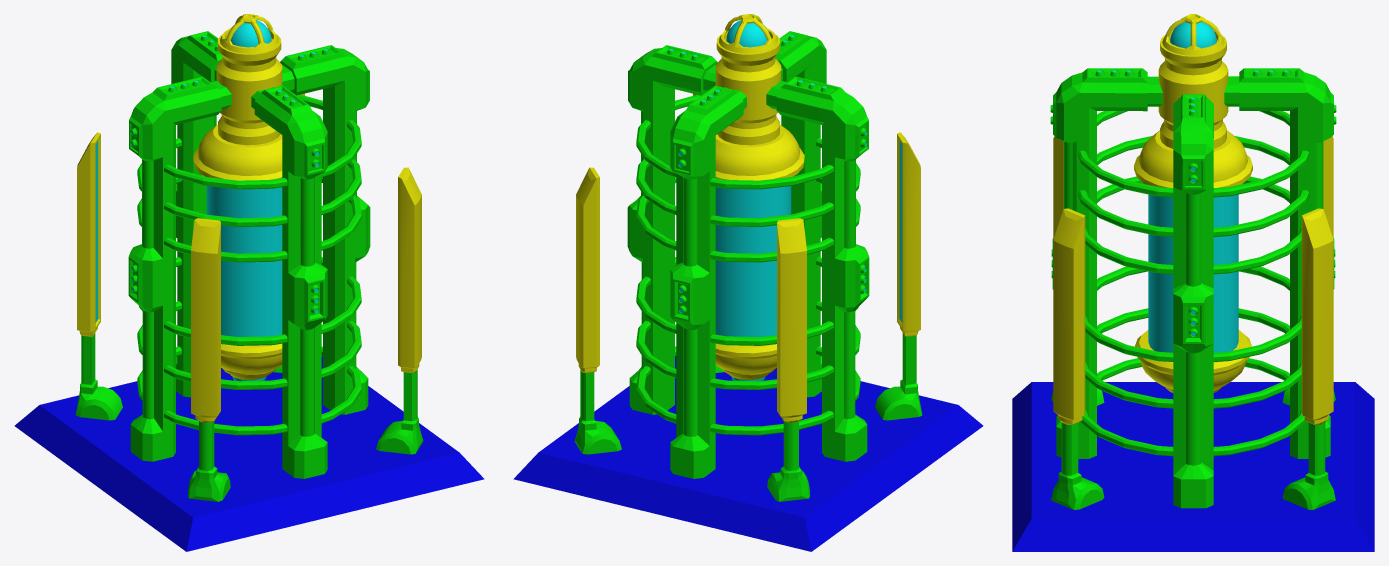
Rendered from SM_Reactor.fbx.
3 renders of one model, left to right at view 1: azimuth 30°, elevation 25°; view 2: azimuth 150°, elevation 25°; view 3: azimuth 270°, elevation 25°, orthographic. The views are drawn at different scales.
Parts seen in each view (by area): view 1: top2; view 2: top2; view 3: top2.
Part boxes in pixels (left/top/right/bottom): top2: left=14, top=14, right=484, bottom=551; top2: left=513, top=14, right=983, bottom=551; top2: left=1012, top=14, right=1374, bottom=551.
Size of the model in its own units: 12.53 by 17.49 by 12.53.
